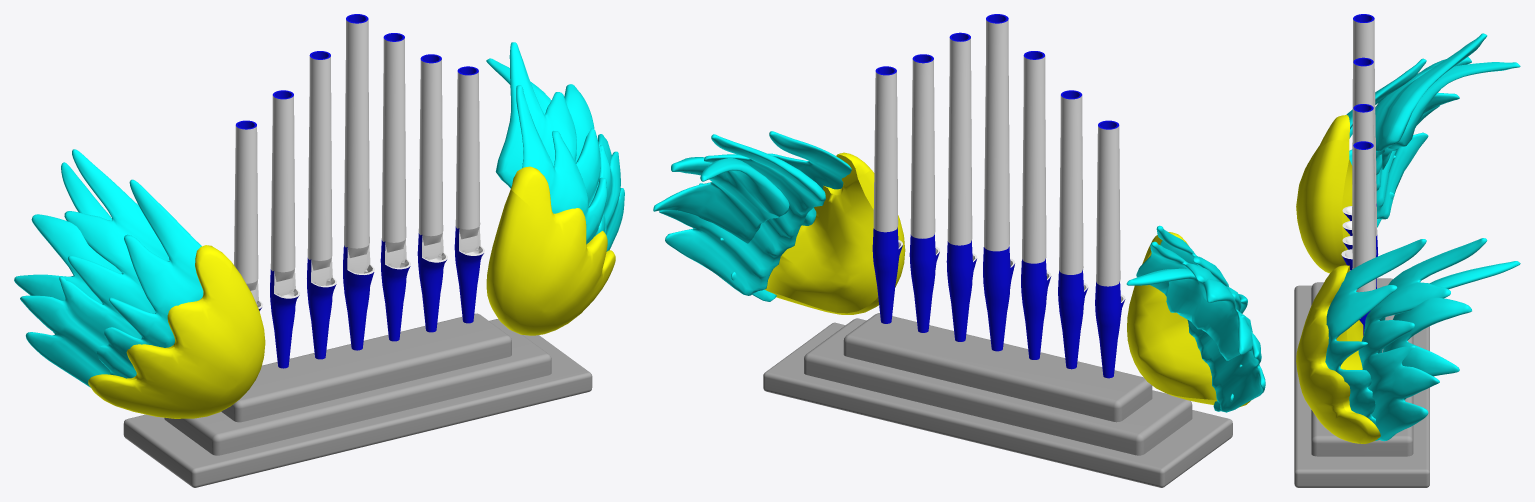
Rendered from pipe-group.fbx.
3 renders of one model, left to right at view 1: azimuth 30°, elevation 25°; view 2: azimuth 150°, elevation 25°; view 3: azimuth 270°, elevation 25°, orthographic. The views are drawn at different scales.
Parts seen in each view (by area): view 1: Wing_R_1, pipe_step_1, Wing_L_1, Wing_R_3, pipe_step_3, pipe_step_2, Wing_R_2, pipe_4, pipe_3, pipe_5, Wing_L_3, pipe_2 (+6 smaller); view 2: pipe_step_1, pipe_step_3, pipe_step_2, Wing_L_1, Wing_L_3, pipe_4, pipe_3, pipe_5, Wing_R_1, Wing_L_4, pipe_2, pipe_6 (+6 smaller); view 3: Wing_L_3, pipe_step_1, Wing_L_1, Wing_R_1, Wing_L_2, Wing_R_3, Wing_L_4, pipe_7, pipe_step_2, Wing_R_4, pipe_4, pipe_5 (+2 smaller).
Part boxes in pixels (box(x1,y1,x2,y2)): Wing_R_1: box(88, 245, 265, 418); pipe_step_1: box(123, 335, 592, 487); Wing_L_1: box(486, 166, 615, 335); Wing_R_3: box(20, 149, 169, 387); pipe_step_3: box(221, 313, 511, 422); pipe_step_2: box(164, 319, 551, 455); Wing_R_2: box(96, 179, 203, 378); pipe_4: box(343, 14, 374, 350); pipe_3: box(307, 51, 336, 359); pipe_5: box(380, 33, 410, 341); Wing_L_3: box(495, 42, 624, 251); pipe_2: box(270, 90, 300, 368); pipe_step_1: box(763, 322, 1232, 487); pipe_step_3: box(843, 313, 1152, 422); pipe_step_2: box(804, 318, 1192, 455); Wing_L_1: box(765, 152, 905, 314); Wing_L_3: box(659, 134, 825, 295); pipe_4: box(983, 14, 1015, 351); pipe_3: box(1021, 51, 1051, 359); pipe_5: box(946, 32, 977, 341); Wing_R_1: box(1127, 232, 1250, 407); Wing_L_4: box(653, 157, 789, 243); pipe_2: box(1058, 90, 1088, 369); pipe_6: box(909, 54, 939, 332); Wing_L_3: box(1358, 238, 1487, 441); pipe_step_1: box(1294, 285, 1429, 487); Wing_L_1: box(1296, 265, 1380, 443); Wing_R_1: box(1296, 115, 1352, 273); Wing_L_2: box(1325, 239, 1426, 440); Wing_R_3: box(1375, 33, 1487, 219); Wing_L_4: box(1383, 261, 1520, 376); pipe_7: box(1352, 141, 1375, 335); pipe_step_2: box(1311, 282, 1413, 456); Wing_R_4: box(1381, 57, 1520, 169); pipe_4: box(1341, 14, 1378, 270); pipe_5: box(1350, 57, 1376, 279).
Size of the model in its own units: 970 by 614 by 333.
